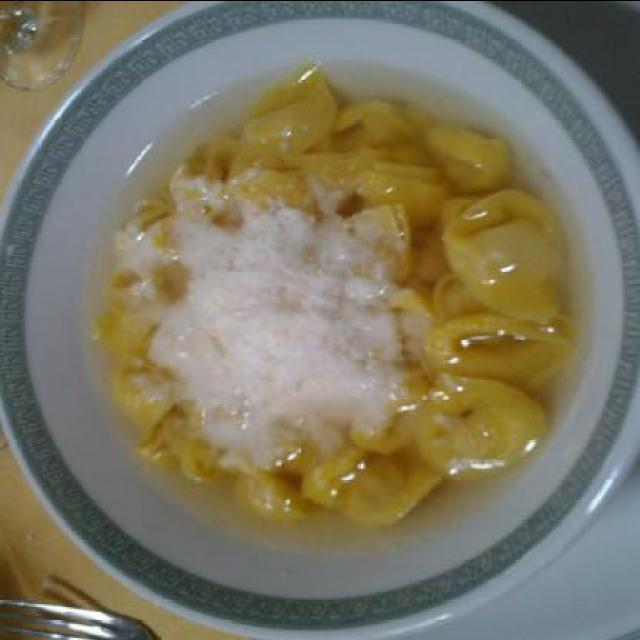Tortellini in broth: (86, 81, 552, 490)
